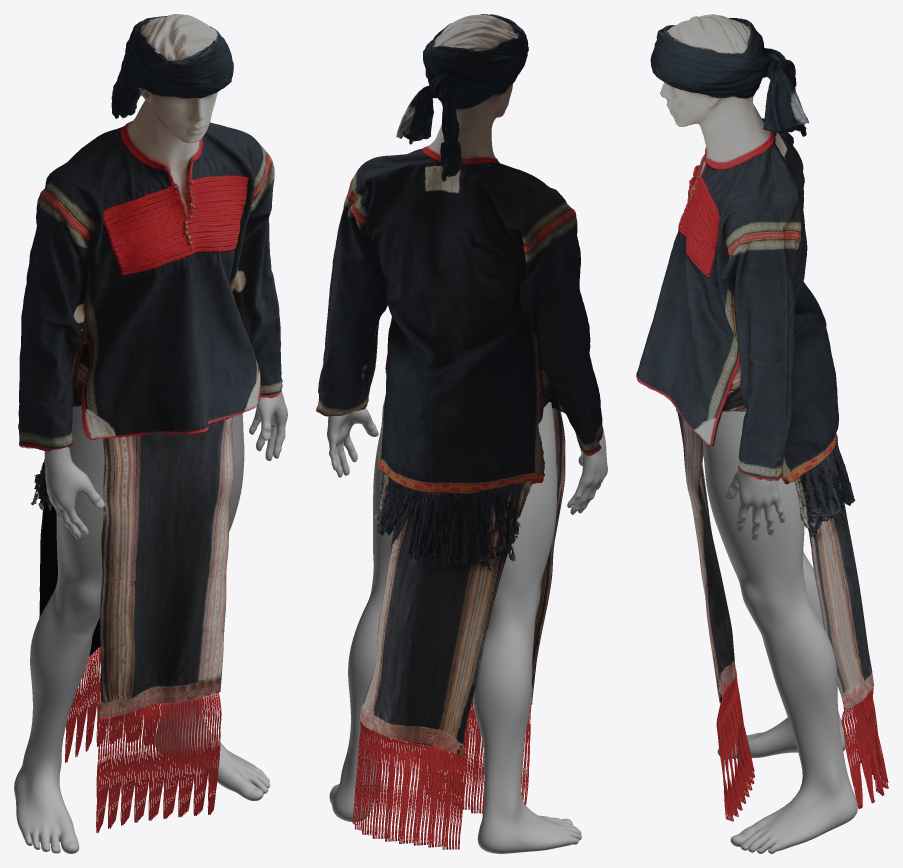
Rendered from Y_phục_tù_trưởng_Ê_đê.gltf.
3 renders of one model, left to right at view 1: azimuth 30°, elevation 25°; view 2: azimuth 150°, elevation 25°; view 3: azimuth 270°, elevation 25°, orthographic. The views are drawn at different scales.
Parts seen in each view (by area): view 1: GeometryNode_27, GeometryNode_15, GeometryNode_39, GeometryNode_78, GeometryNode_69, GeometryNode_3; view 2: GeometryNode_27, GeometryNode_39, GeometryNode_3, GeometryNode_69, GeometryNode_50, GeometryNode_61, GeometryNode_78, GeometryNode_15; view 3: GeometryNode_27, GeometryNode_39, GeometryNode_3, GeometryNode_15, GeometryNode_69, GeometryNode_78, GeometryNode_50, GeometryNode_61.
Boxes of the visible parts, <box> form: GeometryNode_27: <box>18,14,282,451</box>; GeometryNode_15: <box>99,409,234,717</box>; GeometryNode_39: <box>14,391,287,853</box>; GeometryNode_78: <box>96,693,221,832</box>; GeometryNode_69: <box>65,646,160,820</box>; GeometryNode_3: <box>39,480,100,656</box>; GeometryNode_27: <box>316,14,603,494</box>; GeometryNode_39: <box>327,402,607,853</box>; GeometryNode_3: <box>360,382,527,754</box>; GeometryNode_69: <box>352,710,484,849</box>; GeometryNode_50: <box>375,472,534,565</box>; GeometryNode_61: <box>375,473,534,566</box>; GeometryNode_78: <box>424,699,531,849</box>; GeometryNode_15: <box>530,408,565,704</box>; GeometryNode_27: <box>636,14,838,484</box>; GeometryNode_39: <box>676,408,857,853</box>; GeometryNode_3: <box>806,479,874,709</box>; GeometryNode_15: <box>677,410,735,702</box>; GeometryNode_69: <box>731,672,888,808</box>; GeometryNode_78: <box>716,667,861,821</box>; GeometryNode_50: <box>794,442,855,528</box>; GeometryNode_61: <box>795,443,853,527</box>.
Size of the model in its own units: 65.21 by 183 by 53.14.
Materials: 6 (4 with a texture image).
